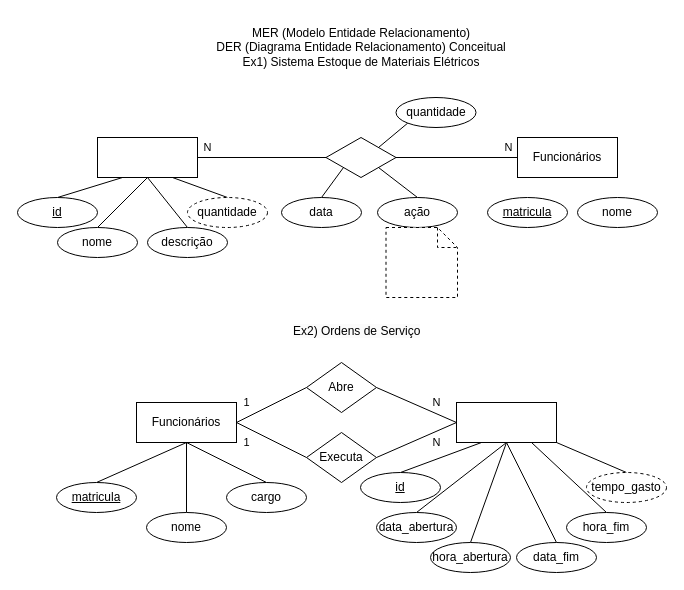
Image size: 684x590. Some labels were removed from this diagram. Each missing label, with the centre of its shape:
"Ações" belongs at pixel 360 157.
"Compra C Utilização U" belongs at pixel 421 262.
"O.S." belongs at pixel 506 422.
"Produtos" belongs at pixel 147 157.
